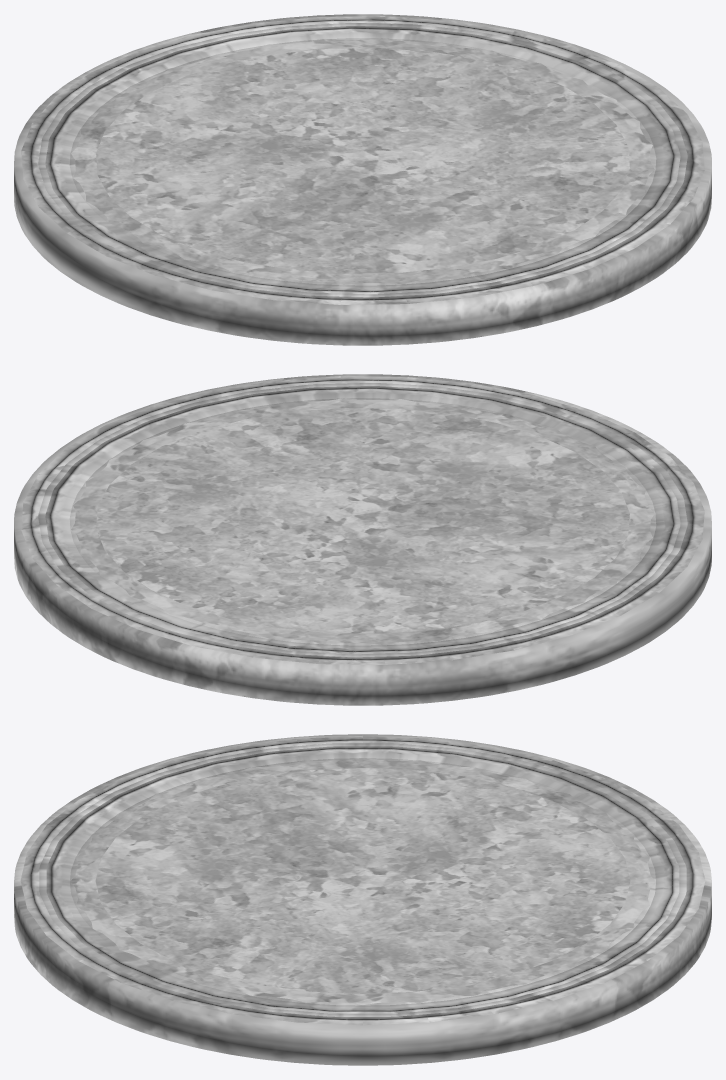
The model's file is pedestal.glb.
3 views of the same model, one above another, from view 1: azimuth 30°, elevation 25°; view 2: azimuth 150°, elevation 25°; view 3: azimuth 270°, elevation 25° (orthographic).
Parts seen in each view (by area): view 1: Cylinder; view 2: Cylinder; view 3: Cylinder.
Part boxes in pixels (box(x1,y1,x2,y2)): Cylinder: box(14, 14, 711, 345); Cylinder: box(14, 374, 711, 705); Cylinder: box(14, 734, 711, 1065).
Bounding box in the file's own units: 2151 × 135 × 2151.
Materials: 1 (1 with a texture image).
